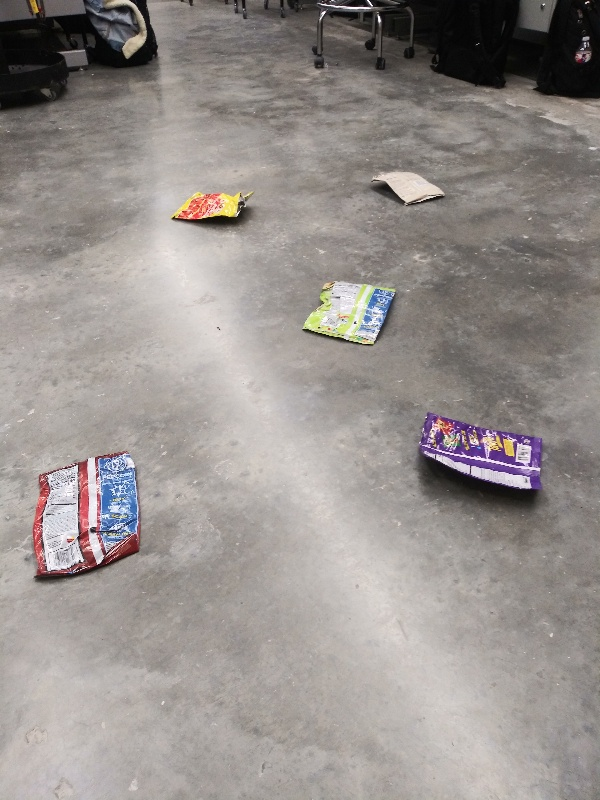bag: (27, 443, 146, 592), (415, 407, 549, 508), (294, 276, 406, 352), (164, 182, 257, 228), (366, 168, 451, 207)
